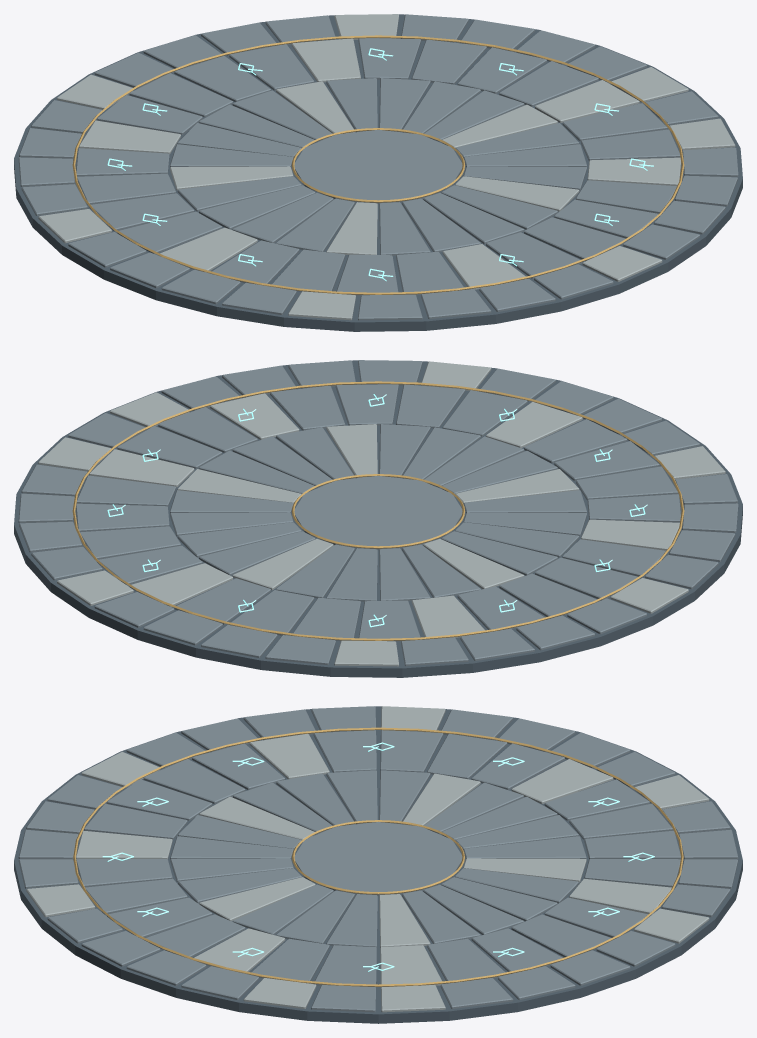
File: sentinel_boss_arena.glb
3 renders of one model, top to bottom at view 1: azimuth 30°, elevation 25°; view 2: azimuth 150°, elevation 25°; view 3: azimuth 270°, elevation 25°, orthographic.
Parts seen in each view (by area): view 1: sentinel_boss_arena_Geometry; view 2: sentinel_boss_arena_Geometry; view 3: sentinel_boss_arena_Geometry.
Part boxes in pixels (box(x1,y1,x2,y2)): sentinel_boss_arena_Geometry: box(14, 14, 742, 331); sentinel_boss_arena_Geometry: box(14, 360, 742, 677); sentinel_boss_arena_Geometry: box(14, 706, 742, 1023).
Size of the model in its own units: 15.4 by 0.32 by 15.4.
